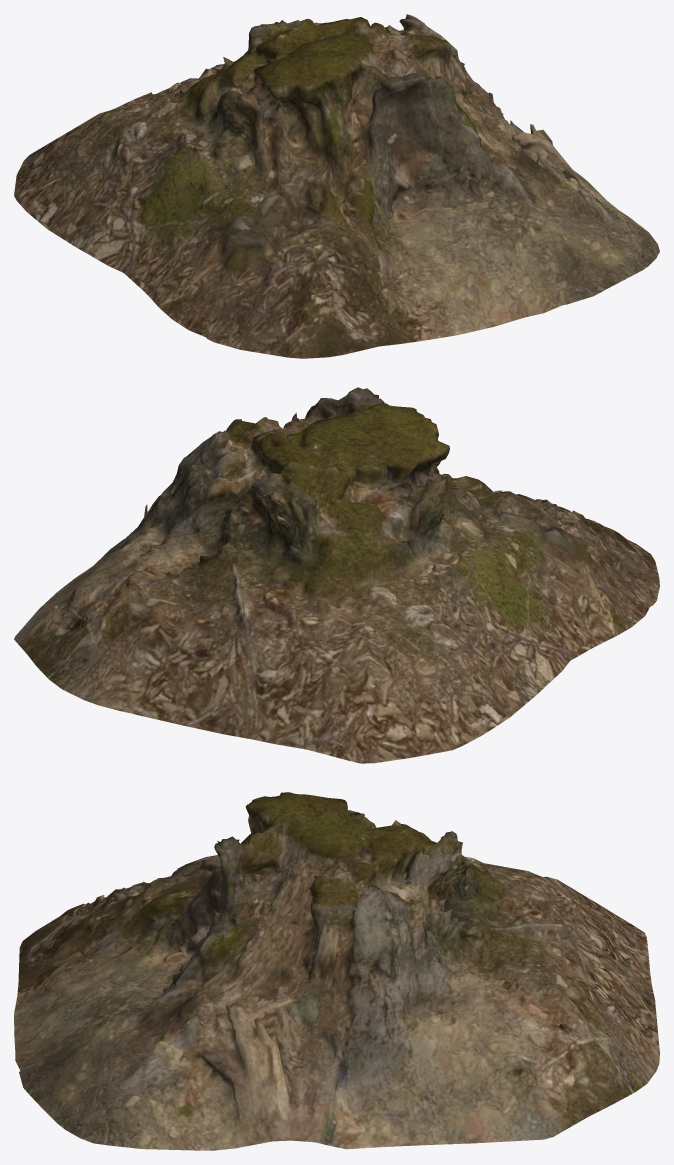
File: tree_stump_01.glb
3 views of the same model, one above another, from view 1: azimuth 30°, elevation 25°; view 2: azimuth 150°, elevation 25°; view 3: azimuth 270°, elevation 25° (orthographic). The views are drawn at different scales.
Visible parts, largest first — view 1: tree_stump_01_mesh; view 2: tree_stump_01_mesh; view 3: tree_stump_01_mesh.
Part boxes in pixels (box(x1,y1,x2,y2)): tree_stump_01_mesh: box(14, 14, 659, 358); tree_stump_01_mesh: box(14, 387, 659, 763); tree_stump_01_mesh: box(14, 792, 659, 1150).
Size of the model in its own units: 1.43 by 0.5725 by 1.59.
1 material, 1 textured.
